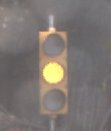Yellow: (29, 23, 76, 127)
